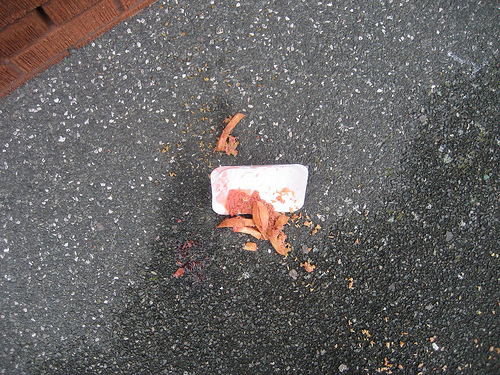litter: (208, 164, 311, 214)
